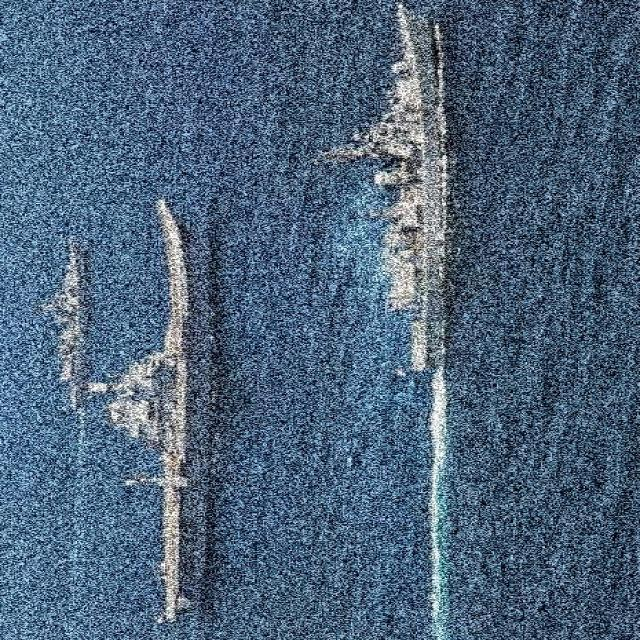ship2: (311, 4, 455, 384), (86, 199, 191, 624), (41, 241, 90, 408)
